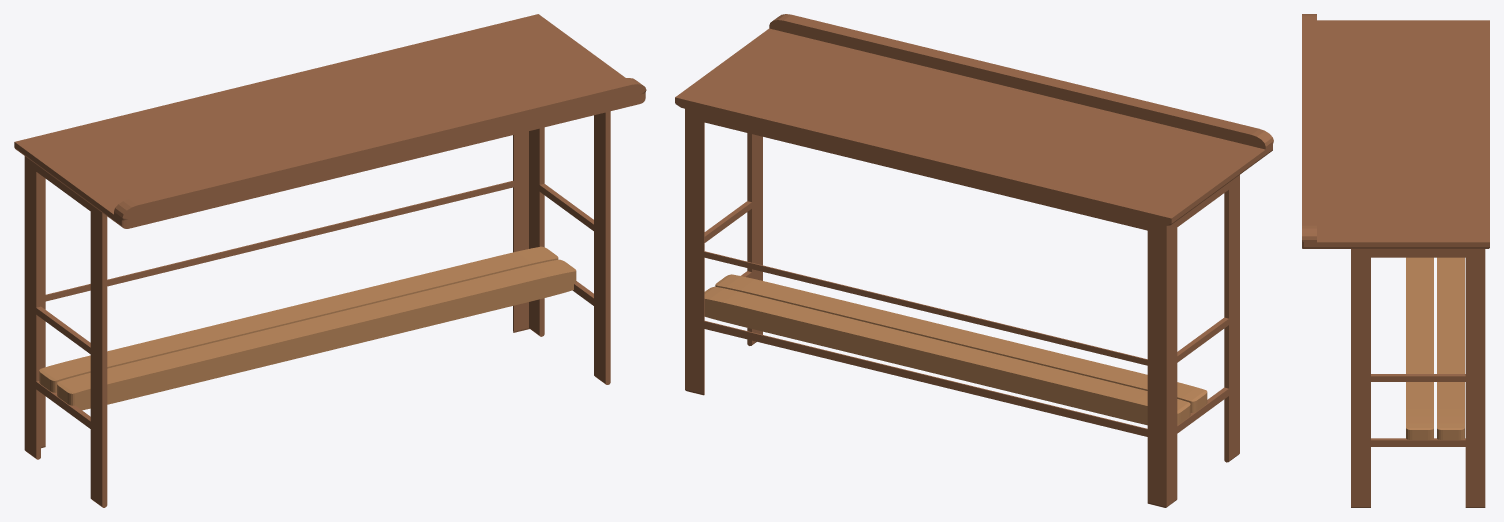
File: parada-mio.fbx
3 views of the same model, side by side, from view 1: azimuth 30°, elevation 25°; view 2: azimuth 150°, elevation 25°; view 3: azimuth 270°, elevation 25° (orthographic). The views are drawn at different scales.
Visible parts, largest first — view 1: Cube.001, Cube; view 2: Cube.001, Cube; view 3: Cube.001, Cube.
Part boxes in pixels (x1,y1,x2,y2): Cube.001: [14, 14, 646, 507]; Cube: [39, 246, 576, 410]; Cube.001: [675, 14, 1273, 507]; Cube: [704, 274, 1207, 425]; Cube.001: [1302, 14, 1489, 507]; Cube: [1406, 257, 1464, 439].
Bounding box in the file's own units: 324 × 190 × 116.
